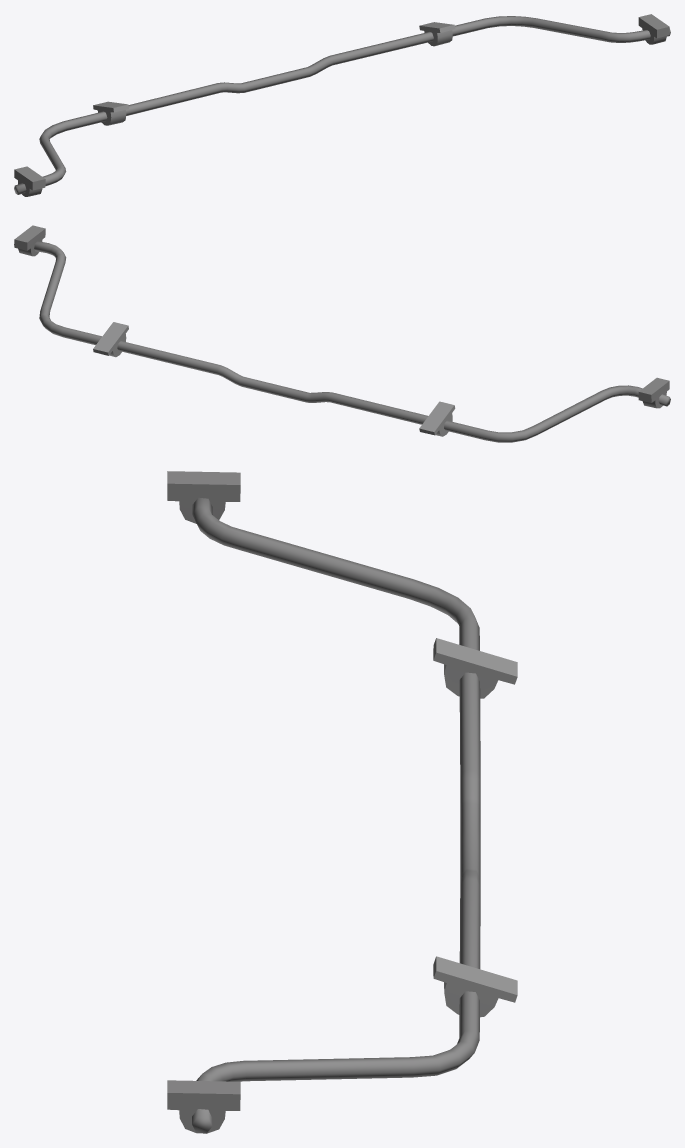
File: antiRoll.glb
The picture shows the model from 3 angles, top to bottom: view 1: azimuth 30°, elevation 25°; view 2: azimuth 150°, elevation 25°; view 3: azimuth 270°, elevation 25°; orthographic projection. The views are drawn at different scales.
Visible parts, largest first — view 1: lansdale_swaybar_F, lansdale_swaybarmount_F; view 2: lansdale_swaybar_F, lansdale_swaybarmount_F; view 3: lansdale_swaybar_F, lansdale_swaybarmount_F.
Boxes of the visible parts, x1=… form: lansdale_swaybar_F: x1=14, y1=14, x2=670, y2=196; lansdale_swaybarmount_F: x1=93, y1=22, x2=455, y2=125; lansdale_swaybar_F: x1=14, y1=225, x2=670, y2=442; lansdale_swaybarmount_F: x1=93, y1=322, x2=455, y2=436; lansdale_swaybar_F: x1=167, y1=471, x2=480, y2=1133; lansdale_swaybarmount_F: x1=433, y1=638, x2=517, y2=1017.
Bounding box in the file's own units: 0.0378 × 0.00196 × 0.00879.
2 materials, 1 textured.
